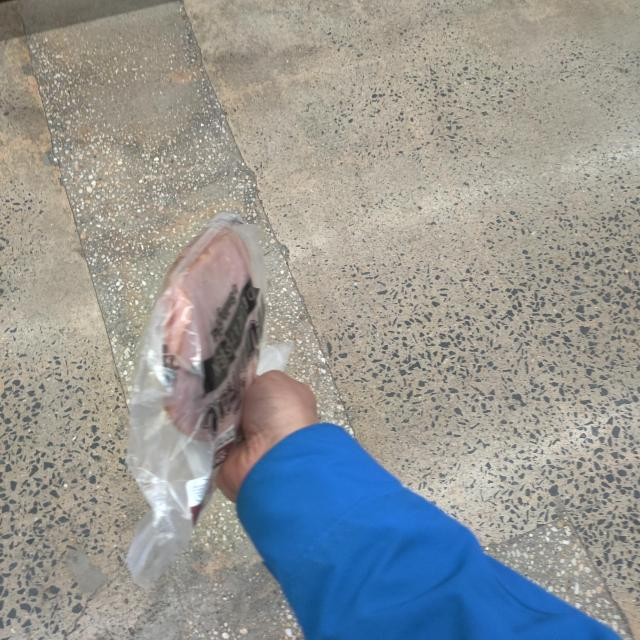Meat: (114, 183, 314, 555)
